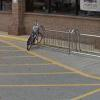Bicycle: (23, 27, 45, 53)
